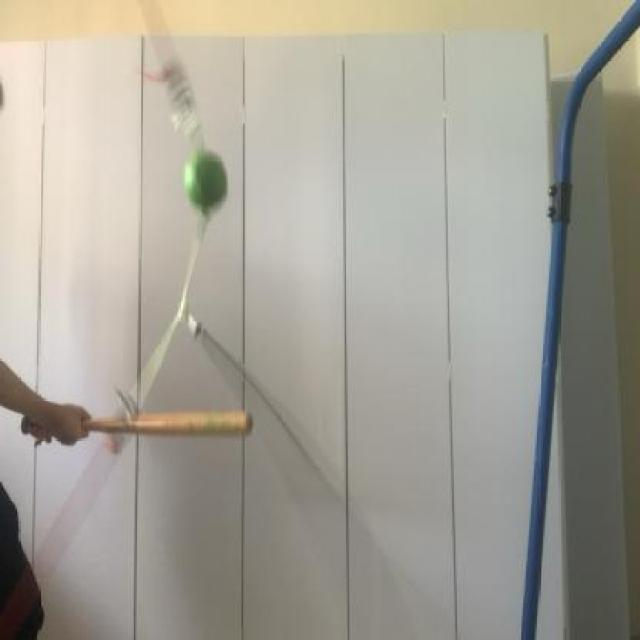baseball: (172, 140, 237, 231)
